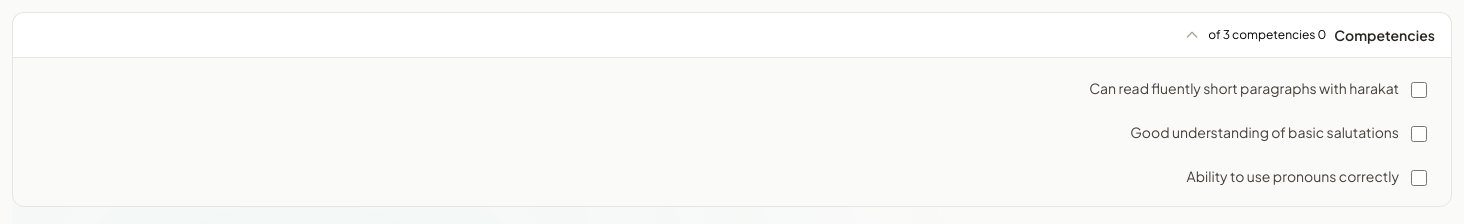
LessonCompetencies | "X of N" counter › updates counter when a checkbox is toggled checked
This screenshot has width=1464, height=224.
What coordinates should you click on to do the following:
click the checkbox labelled "Can read fluently short paragraphs with harakat"
I would click on:
 (1419, 90)
Its box is [1411, 82, 1427, 98].
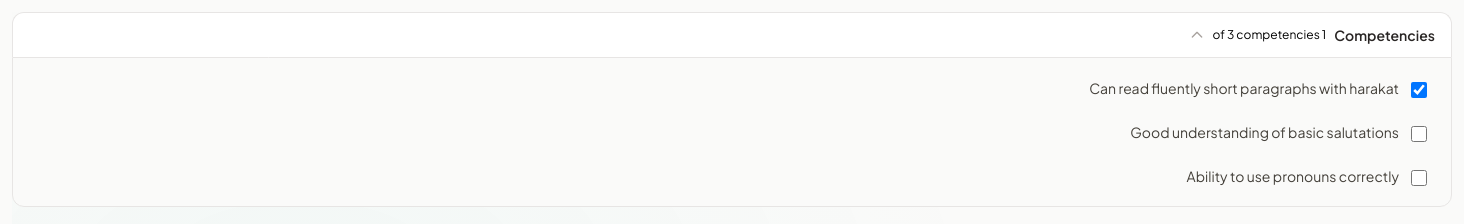
Check: the text with test id "competency-counter" shows "1 of 3", box [1213, 27, 1326, 42]
